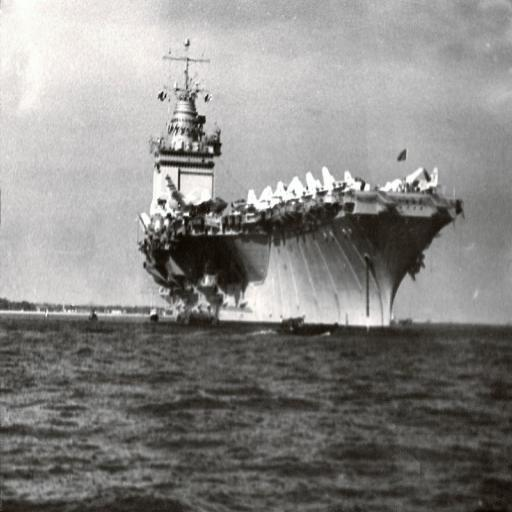Portanaves: (135, 30, 469, 337)
